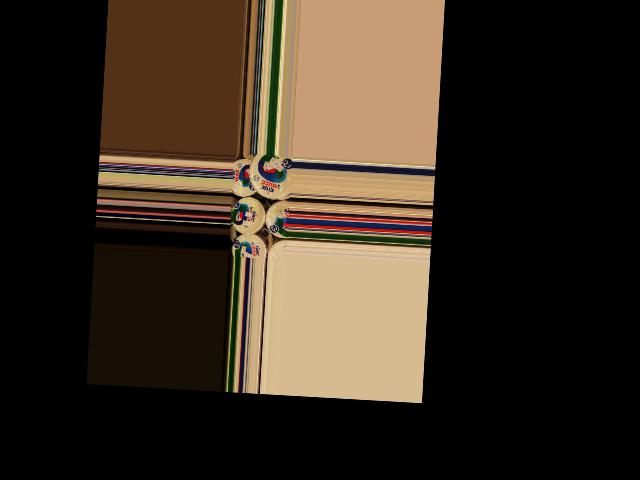cotage: (231, 158, 257, 200)
